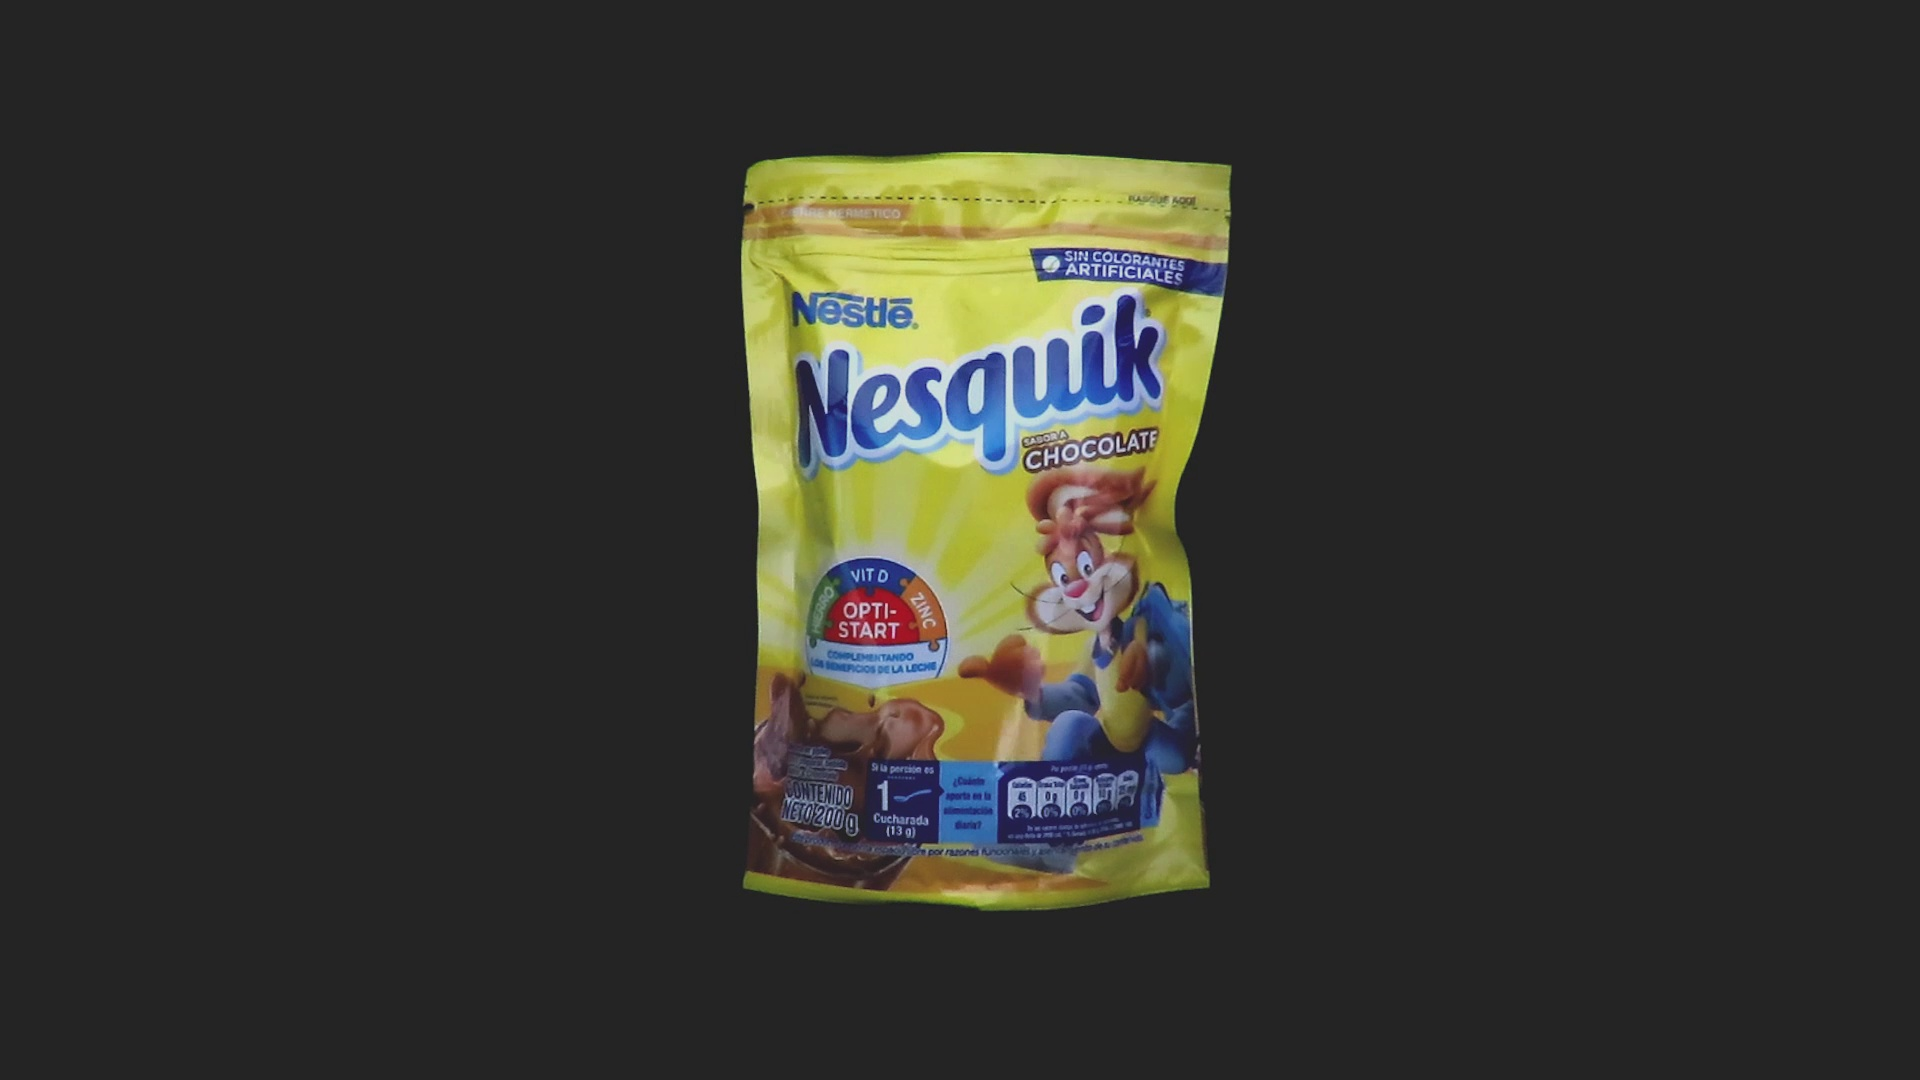COL0170303DYP20000: (736, 146, 1238, 916)
